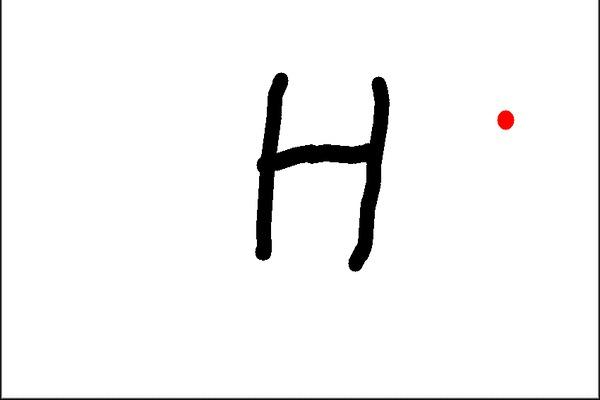H: (243, 61, 393, 279)
